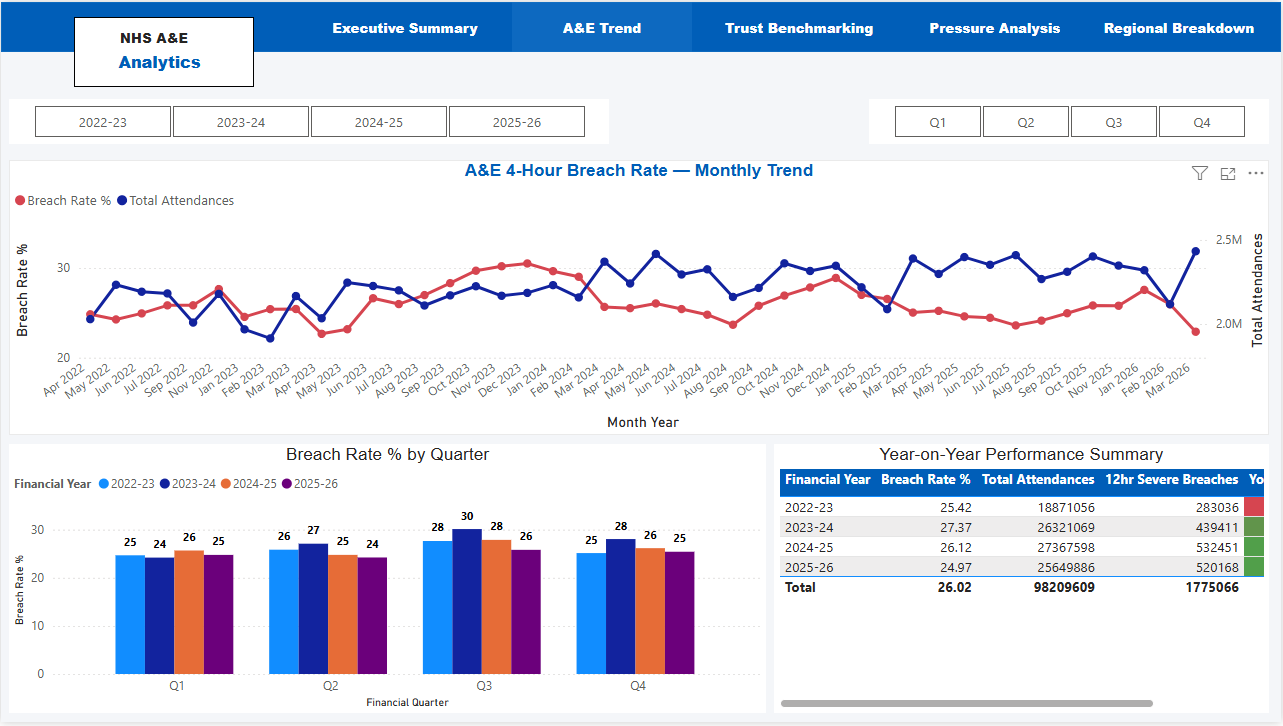

What the dashboard file says about the page in this screenshot:
{"tool":"powerbi","page":{"name":"AE Performance Trend","canvas":[1280,720],"ordinal":1},"visuals":[{"type":"shape","box":[0,0,1280,50],"z":0},{"type":"actionButton","title":"Executive Summary","box":[314,0,180,50],"z":1000},{"type":"shape","box":[73,15,180,70],"z":1000,"group":"g1"},{"type":"actionButton","box":[1088,0,180,50],"z":2000},{"type":"textbox","box":[114,21,90,29],"z":2000,"group":"g1"},{"type":"actionButton","box":[903.5,0,180,50],"z":3000},{"type":"textbox","box":[103,43,111,34],"z":3000,"group":"g1"},{"type":"actionButton","box":[510.5,0,180,50],"z":4000},{"type":"actionButton","box":[708,0,180,50],"z":5000},{"type":"group","id":"g1","title":"Group 1","box":[73,15,180,70],"z":6000},{"type":"slicer","fields":{"Values":["dim_date.Financial Year"]},"box":[8,97,600,45],"z":7000},{"type":"slicer","fields":{"Values":["dim_date.Financial Quarter"]},"box":[868,97,400,45],"z":8000},{"type":"lineChart","title":"A&E 4-Hour Breach Rate — Monthly Trend","fields":{"Category":["dim_date.Month Year"],"Y":["_Measures.Breach Rate %"],"Y2":["_Measures.Total Attendances"]},"box":[8,158,1260,275],"z":9000},{"type":"clusteredColumnChart","title":"Breach Rate % by Quarter","fields":{"Category":["dim_date.Financial Quarter"],"Series":["dim_date.Financial Year"],"Y":["_Measures.Breach Rate %"]},"box":[8,442,757,269],"z":10000},{"type":"tableEx","title":"Year-on-Year Performance Summary","fields":{"Values":["dim_date.Financial Year","_Measures.Breach Rate %","_Measures.Total Attendances","_Measures.12hr Severe Breaches","_Measures.YoY Breach Rate Change"]},"box":[773,442,495,269],"z":11000}]}

Visuals, with their boxes in screenshot pixels (x1, y1, x2, y2), scaled from the page's 1280x720 canvas onto the 1283x726 screenshot:
shape: [x1=0, y1=0, x2=1282, y2=50]
"Executive Summary" actionButton: [x1=315, y1=0, x2=495, y2=50]
shape: [x1=73, y1=15, x2=254, y2=86]
actionButton: [x1=1091, y1=0, x2=1271, y2=50]
textbox: [x1=114, y1=21, x2=204, y2=50]
actionButton: [x1=906, y1=0, x2=1086, y2=50]
textbox: [x1=103, y1=43, x2=215, y2=78]
actionButton: [x1=512, y1=0, x2=692, y2=50]
actionButton: [x1=710, y1=0, x2=890, y2=50]
"Group 1" group: [x1=73, y1=15, x2=254, y2=86]
slicer - dim_date.Financial Year: [x1=8, y1=98, x2=609, y2=143]
slicer - dim_date.Financial Quarter: [x1=870, y1=98, x2=1271, y2=143]
"A&E 4-Hour Breach Rate — Monthly Trend" lineChart: [x1=8, y1=159, x2=1271, y2=437]
"Breach Rate % by Quarter" clusteredColumnChart: [x1=8, y1=446, x2=767, y2=717]
"Year-on-Year Performance Summary" tableEx: [x1=775, y1=446, x2=1271, y2=717]
